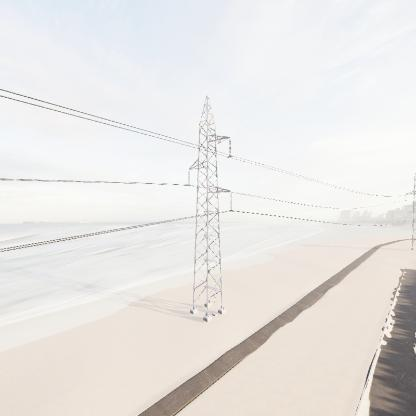tower: (183, 95, 236, 327)
